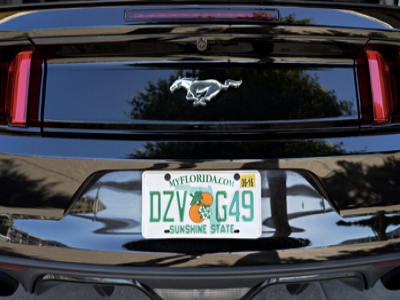licence: (144, 172, 260, 239)
